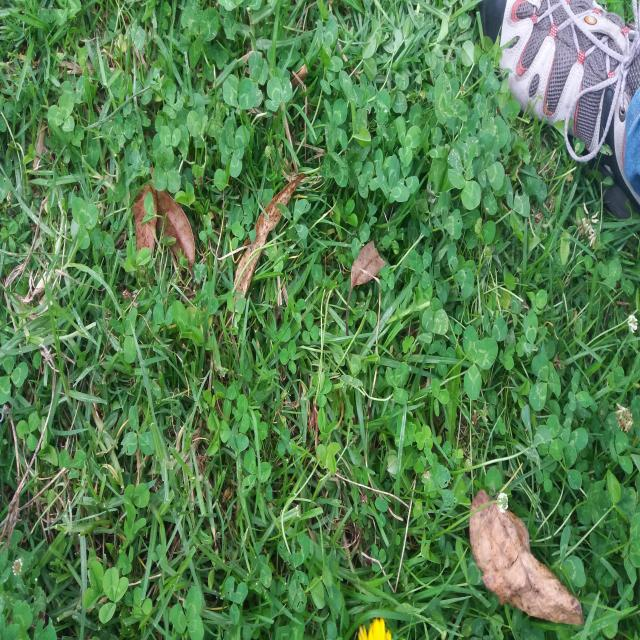Four Leaf Clover: (219, 120, 250, 177)
